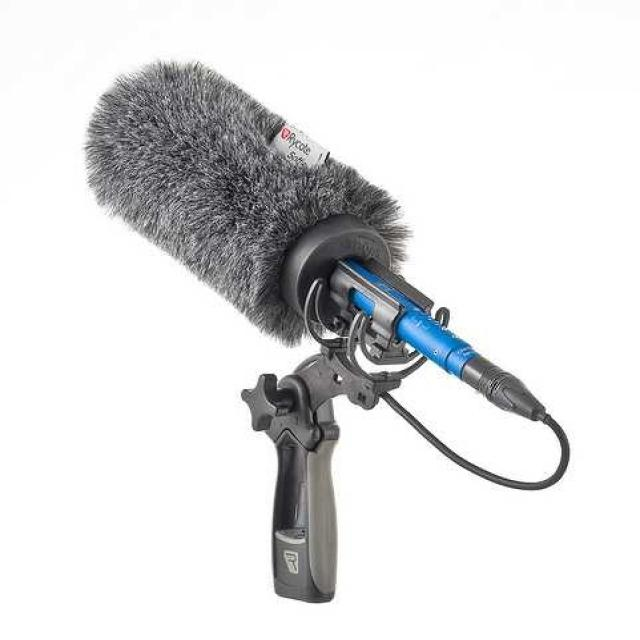microphone: (92, 72, 542, 397)
